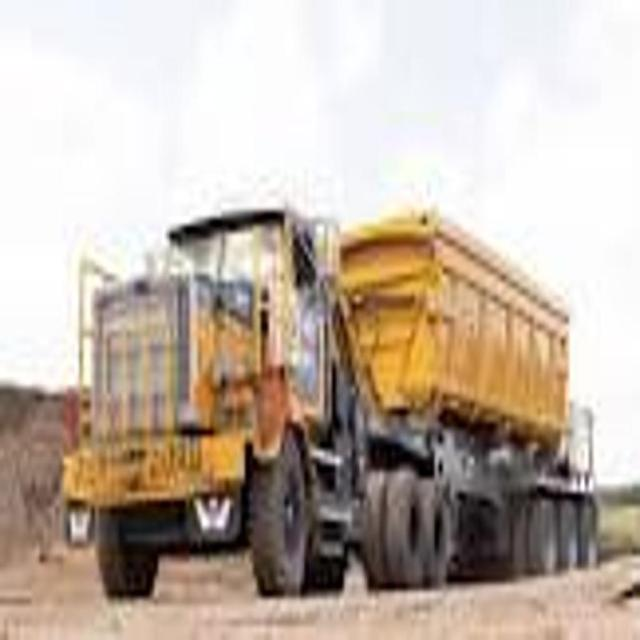dump_truck: (66, 157, 607, 610)
